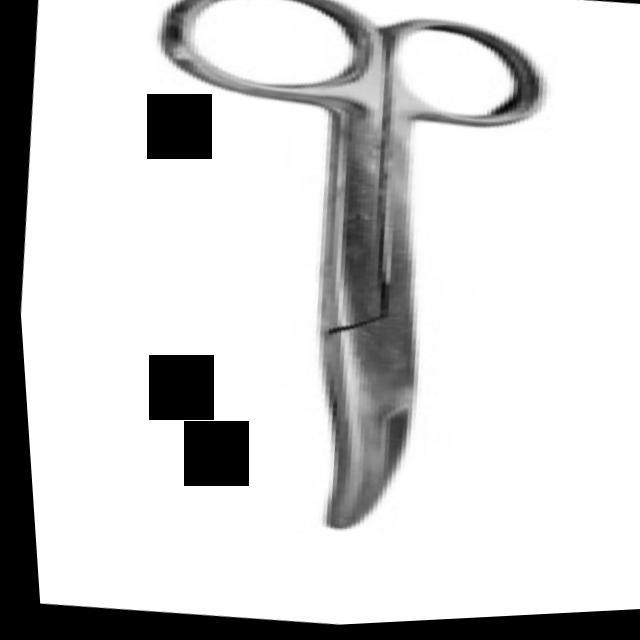Curved Mayo: (88, 0, 595, 569)
